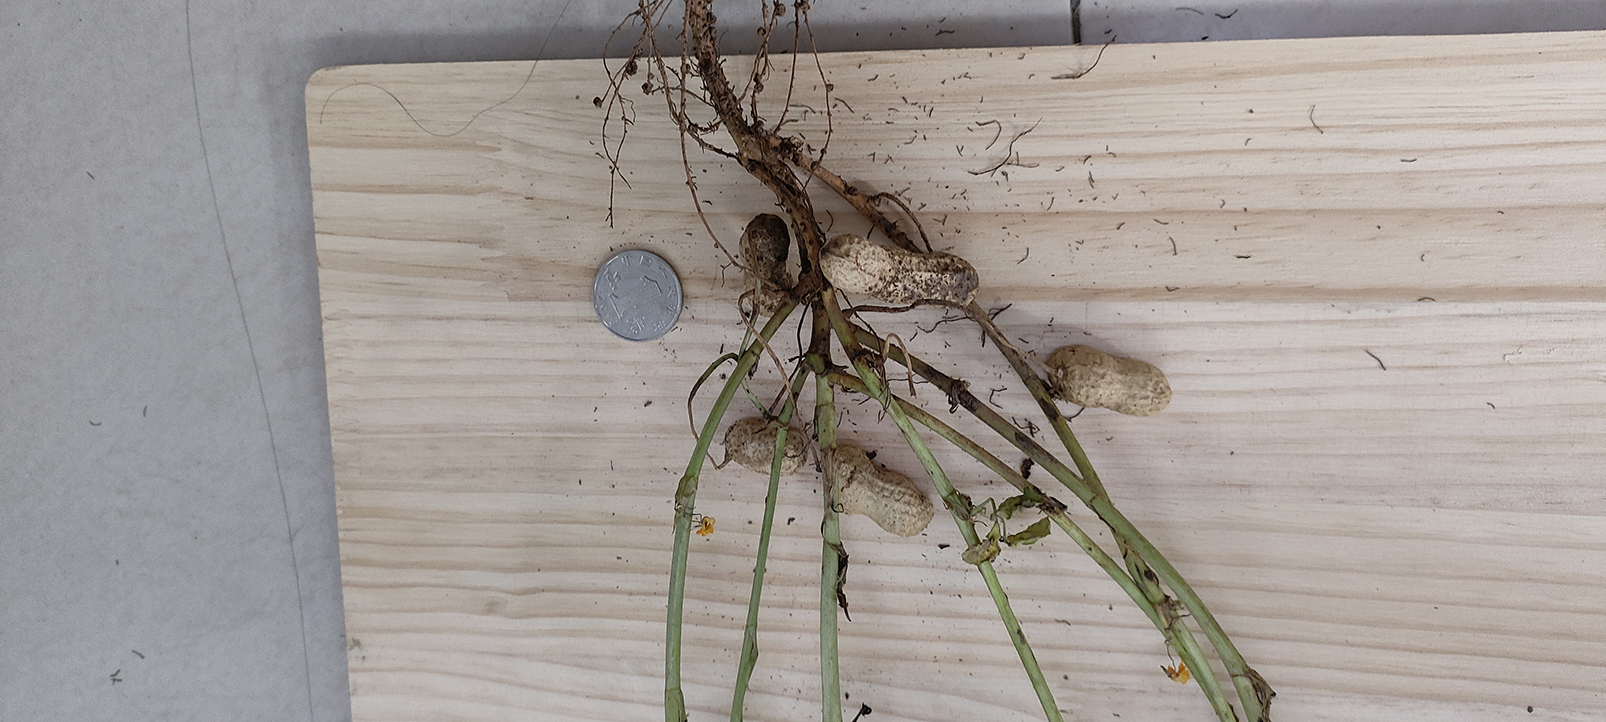h: (819, 233, 978, 302), (835, 445, 935, 538), (1046, 344, 1173, 416)
l: (737, 213, 792, 317), (724, 419, 809, 476)
